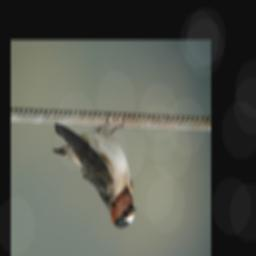Swallow: (51, 116, 140, 234)
